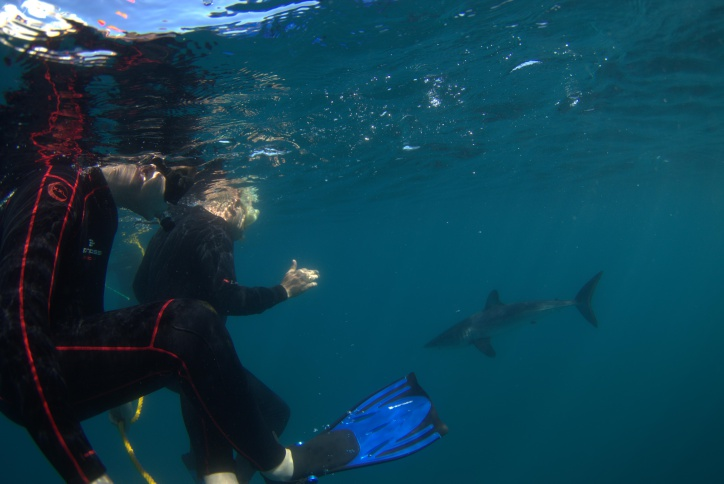Mako: (421, 258, 609, 363)
